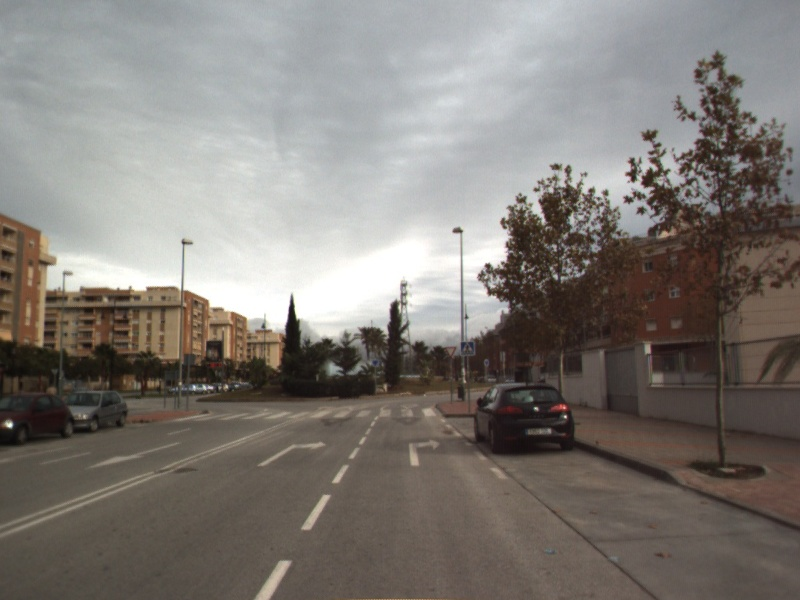RIGHT: (255, 436, 331, 467), (407, 436, 443, 468)
